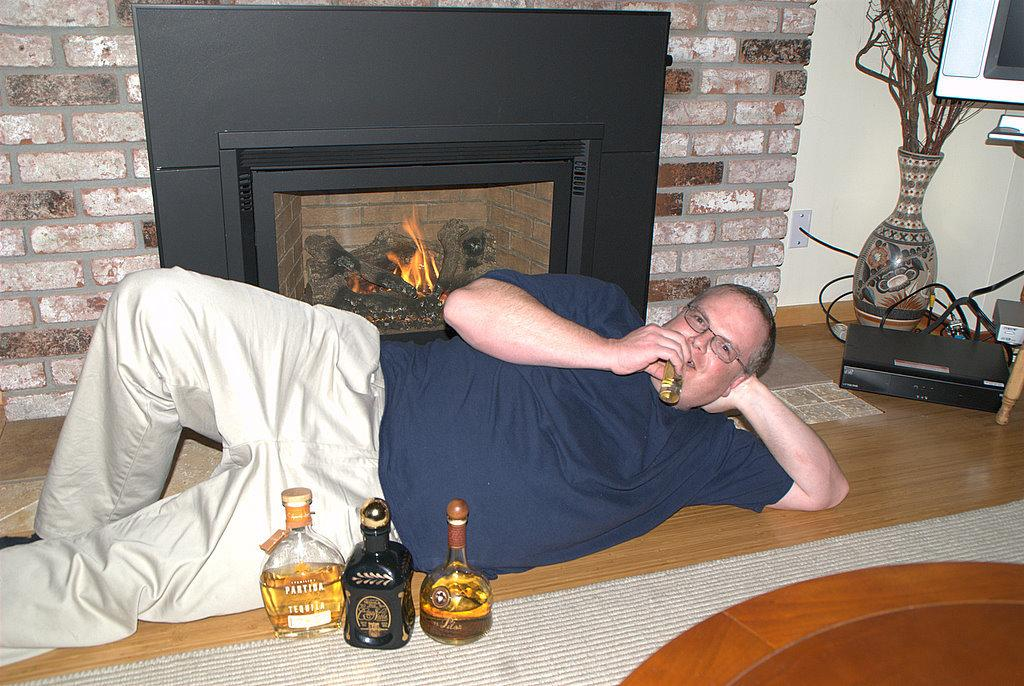Fire: (342, 214, 452, 304)
